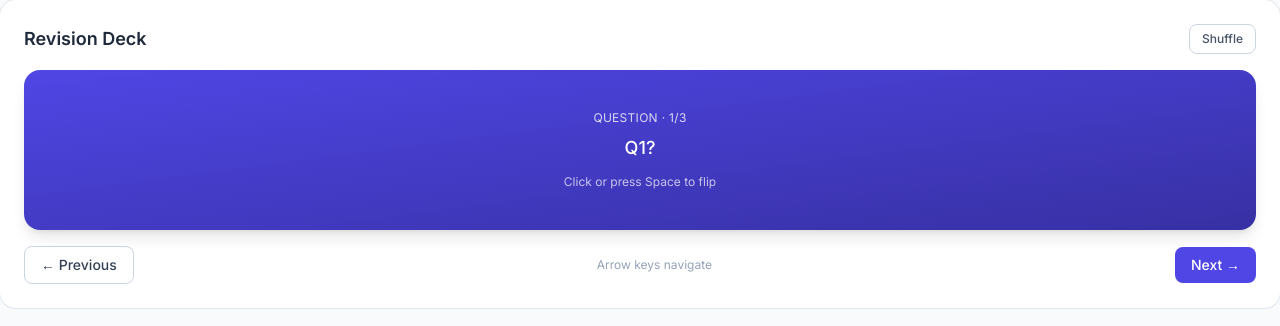
FlashcardsPanel › flips between question and answer
The width and height of the screenshot is (1280, 326).
Step 1. Click the button with aria-label "Show answer" → x=640, y=150, box [24,70,1256,230]
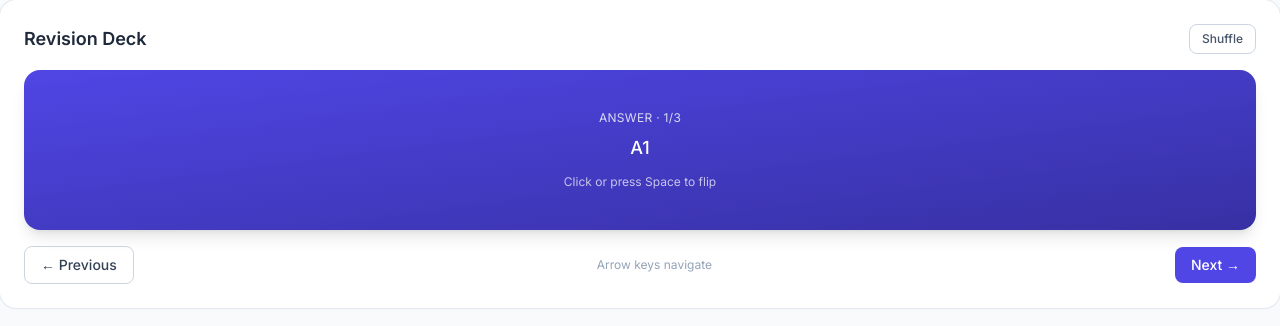
expect the text "A1" is shown: met, box [630,134,650,162]
expect the text "Answer · 1/3" is shown: met, box [599,110,681,126]
